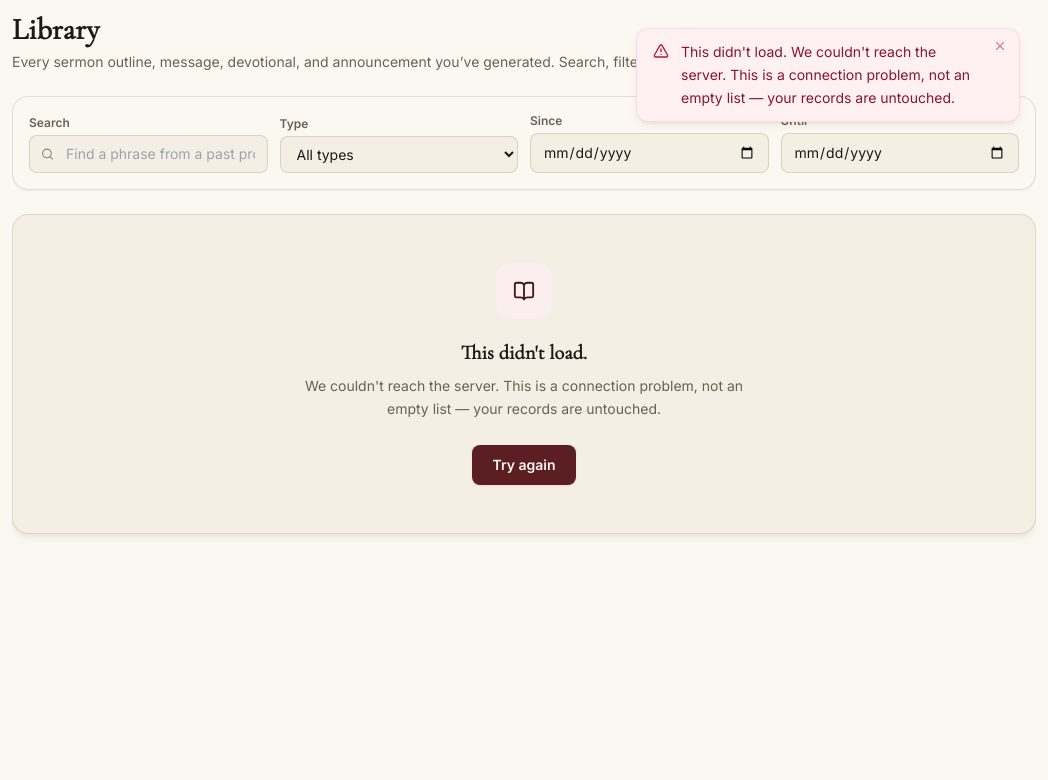
Scenario: library when the archive did not load › retry reads the first page again
The width and height of the screenshot is (1048, 780).
Expected: the heading "This didn't load." is shown, [461,341,587,365]
Step 1. Click the button "Try again" → (524, 464), box [472,444,576,484]
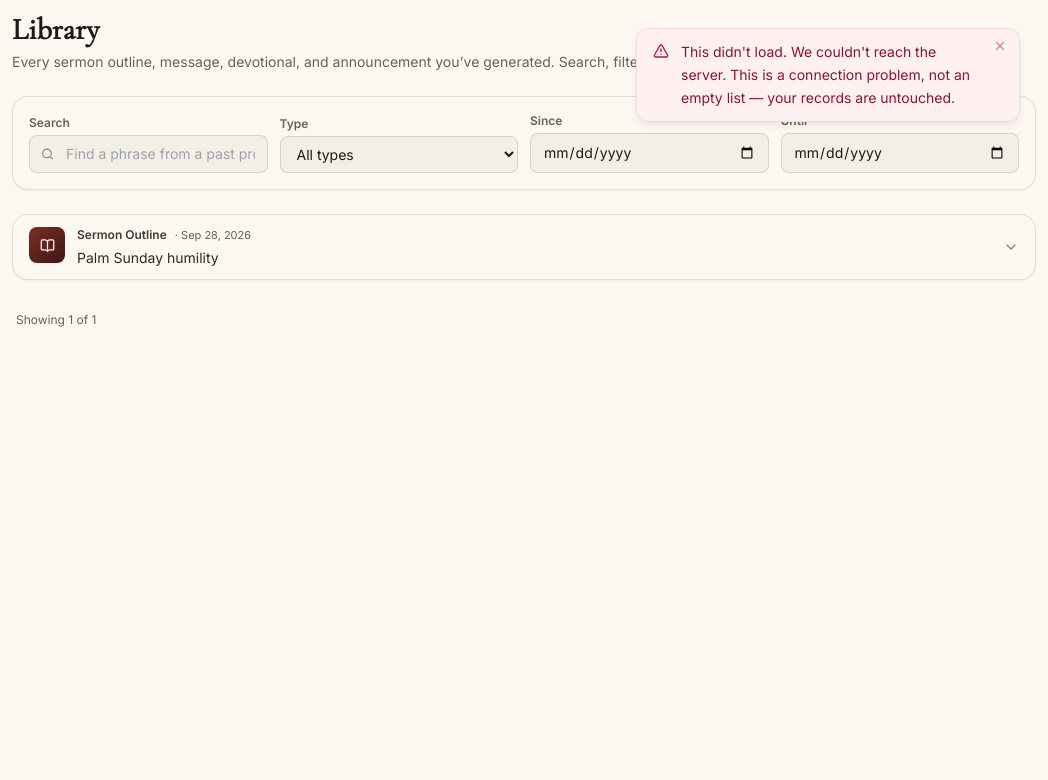
Expected: the text "Palm Sunday humility" is shown, [77,248,219,266]
